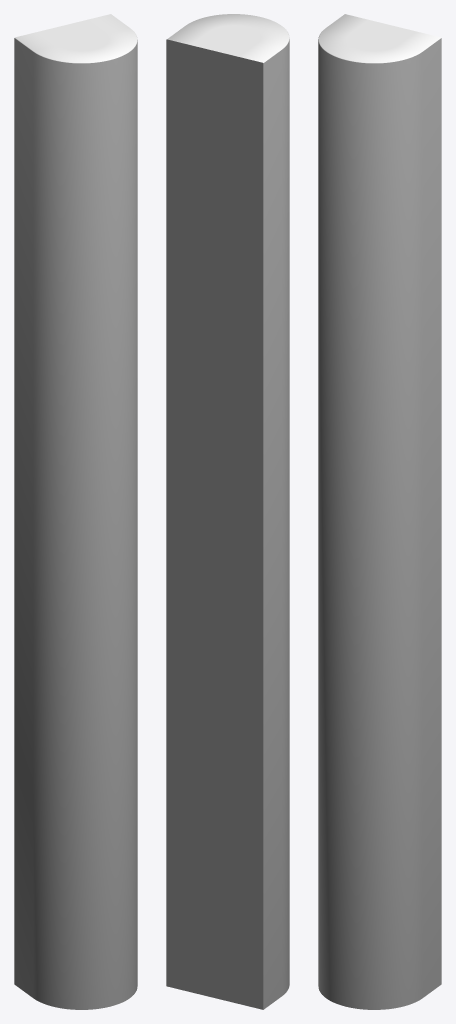
File: finish.FBX
3 views of the same model, side by side, from view 1: azimuth 30°, elevation 25°; view 2: azimuth 150°, elevation 25°; view 3: azimuth 330°, elevation 25° (orthographic).
Parts seen in each view (by area): view 1: finish; view 2: finish; view 3: finish.
Part boxes in pixels (left/top/right/bottom): finish: left=14, top=14, right=137, bottom=1009; finish: left=166, top=14, right=289, bottom=1009; finish: left=318, top=14, right=441, bottom=1009.
Size of the model in its own units: 12 by 112 by 10.
Materials: 1 (1 with a texture image).
